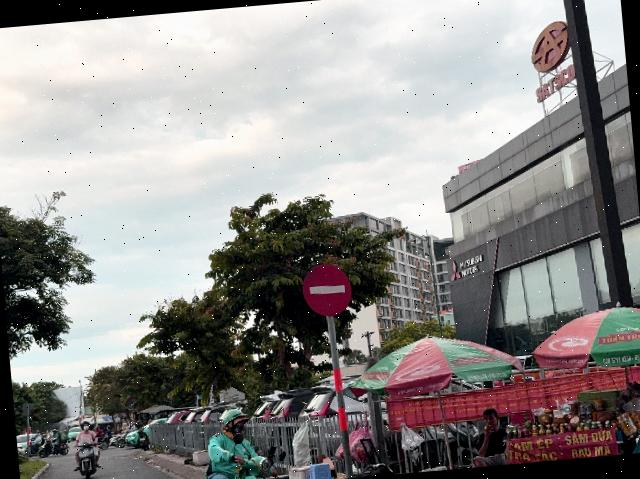cam-di-nguoc-chieu: (300, 262, 355, 318)
